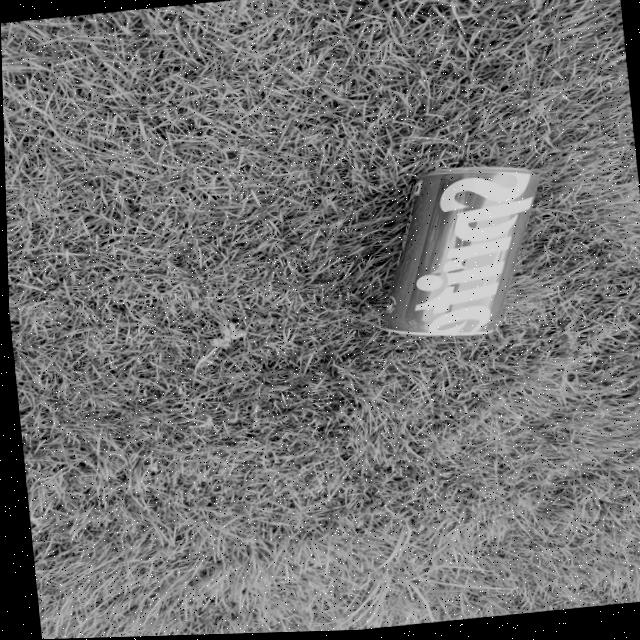Sprite: (377, 166, 538, 344)
